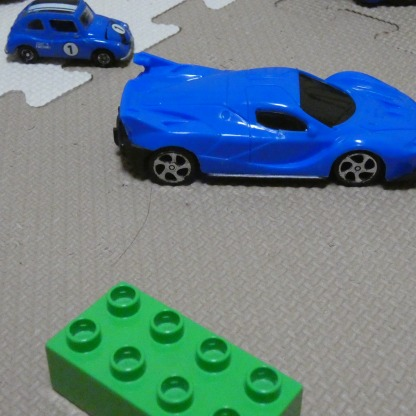car: (112, 50, 415, 189), (2, 0, 134, 64)
